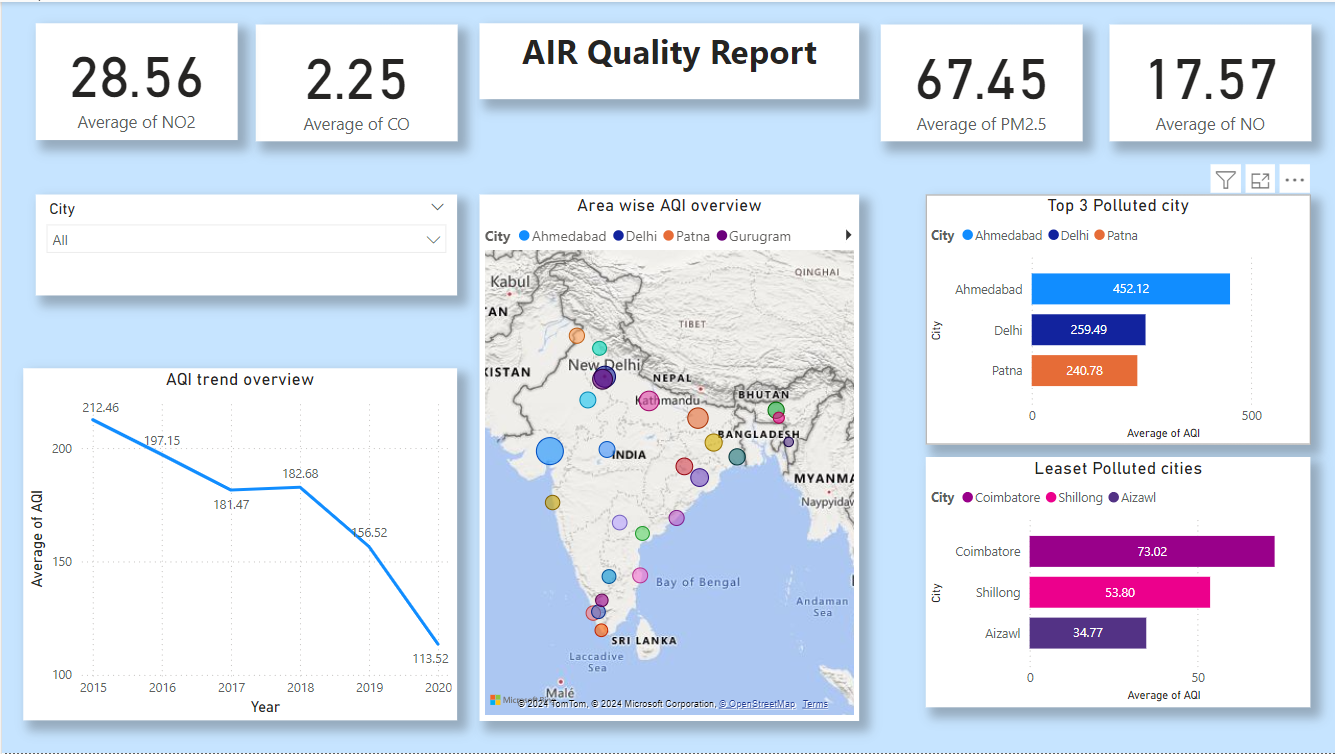

The dashboard page shown, as its layout file describes it:
{"tool":"powerbi","page":{"name":"Report","canvas":[1280,720],"ordinal":0},"visuals":[{"type":"lineChart","title":"AQI trend overview","fields":{"Category":["city_day.Date.Variation.Date Hierarchy.Year","city_day.Date.Variation.Date Hierarchy.Quarter","city_day.Date.Variation.Date Hierarchy.Month","city_day.Date.Variation.Date Hierarchy.Day"],"Y":["Avg(city_day.AQI)"]},"box":[20.4,351.2,415.9,338],"z":0},{"type":"slicer","fields":{"Values":["city_day.City"]},"box":[32.4,184.6,403.9,97.1],"z":1000},{"type":"barChart","title":"Top 3 Polluted city","fields":{"Category":["city_day.City"],"Y":["Avg(city_day.AQI)"],"Series":["city_day.City"]},"box":[885.7,184.6,369.1,240],"z":2000},{"type":"barChart","title":"Leaset Polluted cities","fields":{"Category":["city_day.City"],"Y":["Avg(city_day.AQI)"],"Series":["city_day.City"]},"box":[885.7,436.3,369.1,240],"z":3000},{"type":"card","fields":{"Values":["Avg(city_day.CO)"]},"box":[243.2,21.3,193.4,112.4],"z":4000},{"type":"card","fields":{"Values":["Avg(city_day.NO2)"]},"box":[32.7,19.9,193.4,112.4],"z":5000},{"type":"map","title":"Area wise AQI overview","fields":{"Category":["city_day.City"],"Size":["Avg(city_day.AQI)"],"Series":["city_day.City"]},"box":[457.8,184.6,364.3,504.6],"z":6000},{"type":"textbox","box":[457.8,20.4,364.3,73.1],"z":7000},{"type":"card","fields":{"Values":["Avg(city_day.PM2.5)"]},"box":[842,21.3,193.4,112.4],"z":8000},{"type":"card","fields":{"Values":["Avg(city_day.NO)"]},"box":[1062.4,21.3,193.4,112.4],"z":9000}]}

Visuals, with their boxes in screenshot pixels (x1, y1, x2, y2), scaled from the page's 1280x720 canvas onto the 1335x754 screenshot:
"AQI trend overview" lineChart: BBox(21, 368, 455, 722)
slicer - city_day.City: BBox(34, 193, 455, 295)
"Top 3 Polluted city" barChart: BBox(924, 193, 1309, 445)
"Leaset Polluted cities" barChart: BBox(924, 457, 1309, 708)
card - Avg(city_day.CO): BBox(254, 22, 455, 140)
card - Avg(city_day.NO2): BBox(34, 21, 236, 139)
"Area wise AQI overview" map: BBox(477, 193, 857, 722)
textbox: BBox(477, 21, 857, 98)
card - Avg(city_day.PM2.5): BBox(878, 22, 1080, 140)
card - Avg(city_day.NO): BBox(1108, 22, 1310, 140)
